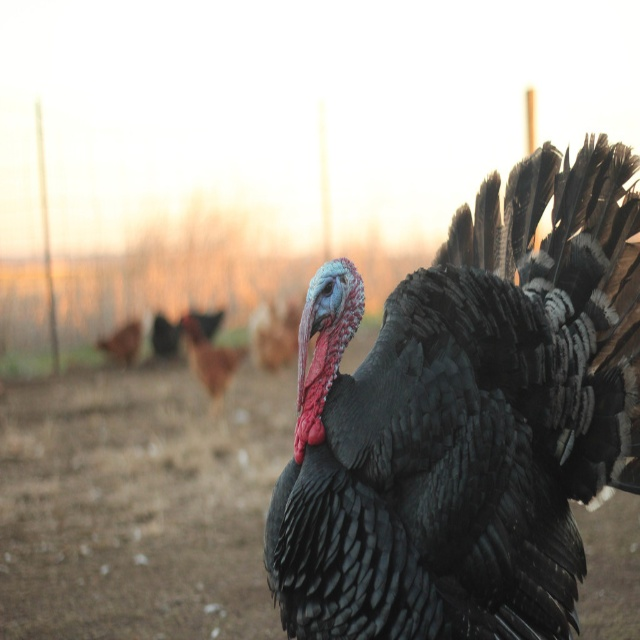Turkey: (262, 132, 640, 640)
